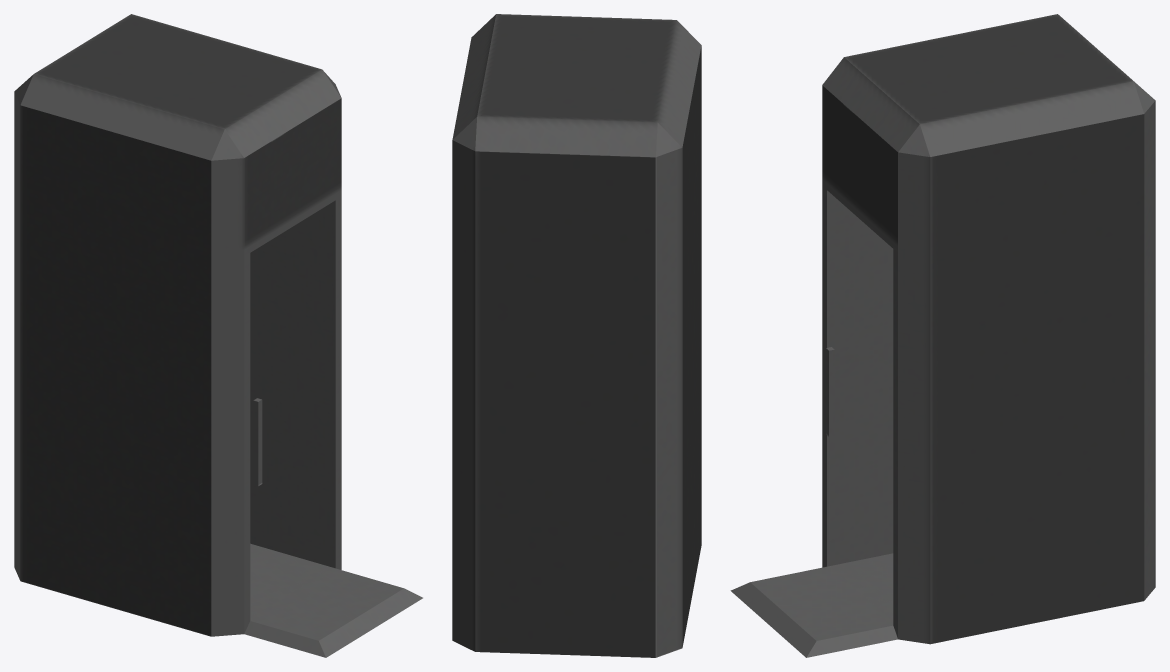
The model's file is Captain_Shower.fbx.
The picture shows the model from 3 angles, left to right: view 1: azimuth 30°, elevation 25°; view 2: azimuth 150°, elevation 25°; view 3: azimuth 270°, elevation 25°; orthographic projection. The views are drawn at different scales.
Parts seen in each view (by area): view 1: Captain_Shower; view 2: Captain_Shower; view 3: Captain_Shower.
Part boxes in pixels (bbox=[...]): Captain_Shower: bbox=[14, 14, 422, 657]; Captain_Shower: bbox=[452, 14, 701, 657]; Captain_Shower: bbox=[730, 14, 1155, 657].
Size of the model in its own units: 662 by 1106 by 835.
